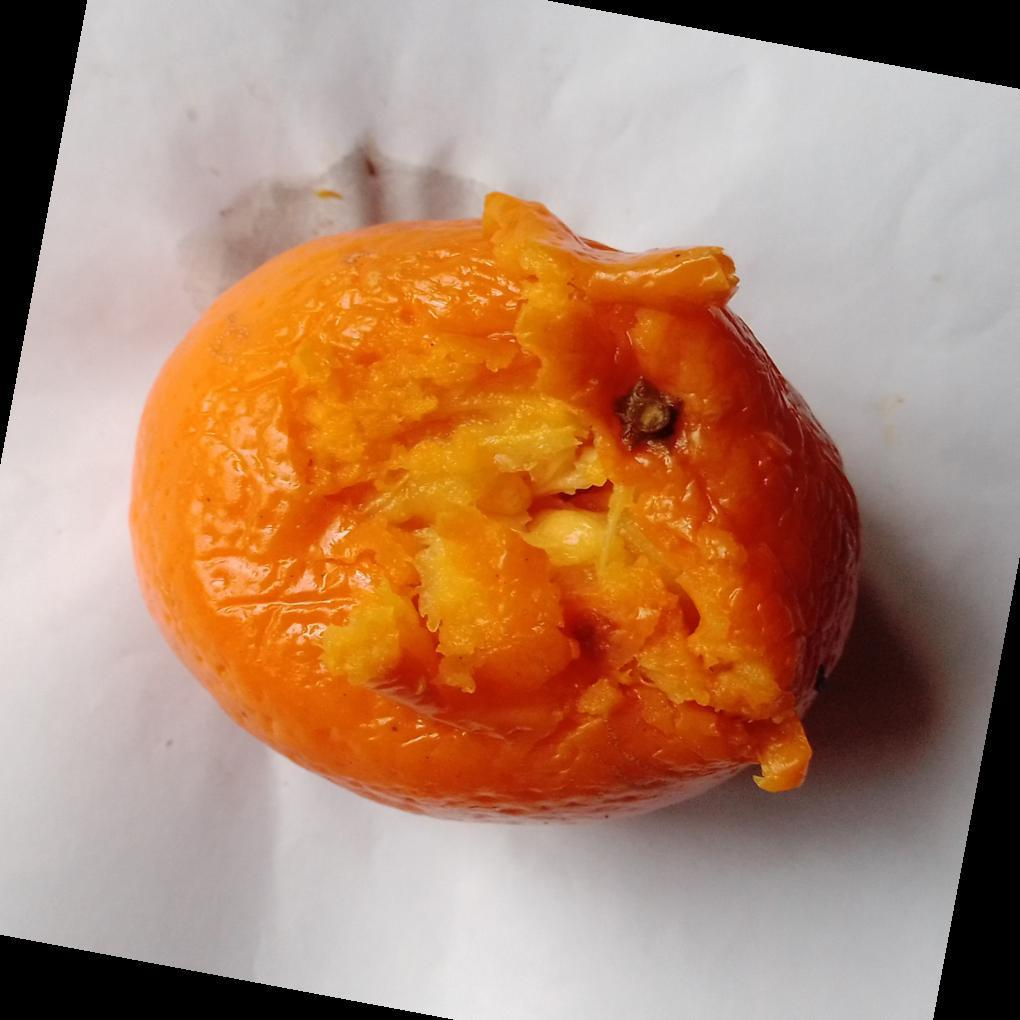FreshOrange: (125, 194, 864, 825)
